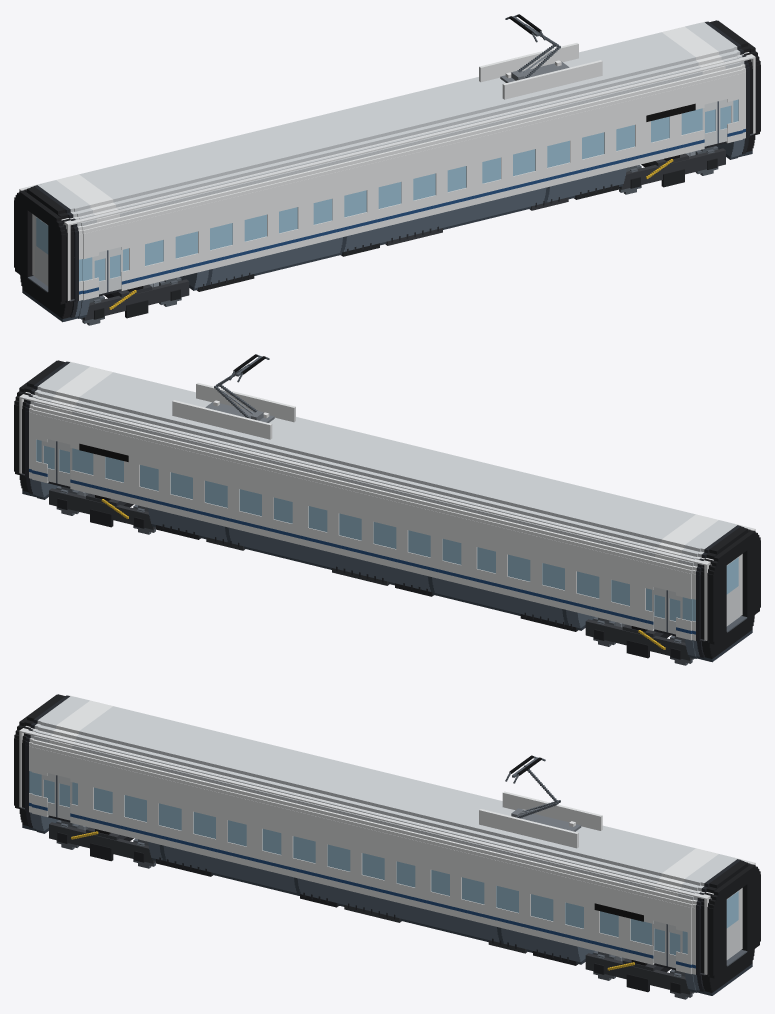
The model's file is ktx_sancheon_car.obj.
3 views of the same model, one above another, from view 1: azimuth 30°, elevation 25°; view 2: azimuth 150°, elevation 25°; view 3: azimuth 330°, elevation 25° (orthographic).
Parts seen in each view (by area): view 1: SHELL, SHELL_pantograph, SHELL_ceiling, SHELL_diaphragm, BOGEY_REAR, BOGEY_FRONT, FRAME, CONNECTING_DOOR_1_CG_CR_TOGGLE_TL_0.98_Z, SHELL_end, EXTERNAL_DOOR_10_CG_DR2_TOGGLE_TL_-0.44_X, EXTERNAL_DOOR_5_CG_DR1_TOGGLE_TL_0.44_X, EXTERNAL_DOOR_4_CG_DR1_TOGGLE_TL_-0.44_X; view 2: SHELL, SHELL_pantograph, SHELL_ceiling, SHELL_diaphragm, BOGEY_REAR, BOGEY_FRONT, FRAME, CONNECTING_DOOR_1_CG_CR_TOGGLE_TL_0.98_Z, SHELL_end, EXTERNAL_DOOR_13_CG_DL2_TOGGLE_TL_-0.44_X, EXTERNAL_DOOR_8_CG_DL1_TOGGLE_TL_0.44_X, EXTERNAL_DOOR_7_CG_DL1_TOGGLE_TL_-0.44_X; view 3: SHELL, SHELL_pantograph, SHELL_ceiling, SHELL_diaphragm, BOGEY_FRONT, BOGEY_REAR, FRAME, CONNECTING_DOOR_2_CG_CF_TOGGLE_TL_0.98_Z, SHELL_end, EXTERNAL_DOOR_10_CG_DR2_TOGGLE_TL_-0.44_X, EXTERNAL_DOOR_5_CG_DR1_TOGGLE_TL_0.44_X, EXTERNAL_DOOR_4_CG_DR1_TOGGLE_TL_-0.44_X.
Part boxes in pixels (bbox=[...]): SHELL: bbox=[20, 20, 756, 322]; SHELL_pantograph: bbox=[479, 14, 602, 99]; SHELL_ceiling: bbox=[22, 21, 753, 225]; SHELL_diaphragm: bbox=[14, 20, 760, 304]; BOGEY_REAR: bbox=[82, 279, 189, 320]; BOGEY_FRONT: bbox=[619, 148, 725, 189]; FRAME: bbox=[99, 141, 726, 296]; CONNECTING_DOOR_1_CG_CR_TOGGLE_TL_0.98_Z: bbox=[34, 216, 48, 286]; SHELL_end: bbox=[19, 21, 755, 300]; EXTERNAL_DOOR_10_CG_DR2_TOGGLE_TL_-0.44_X: bbox=[702, 101, 718, 146]; EXTERNAL_DOOR_5_CG_DR1_TOGGLE_TL_0.44_X: bbox=[108, 247, 122, 291]; EXTERNAL_DOOR_4_CG_DR1_TOGGLE_TL_-0.44_X: bbox=[92, 250, 108, 294]; SHELL: bbox=[18, 360, 754, 662]; SHELL_pantograph: bbox=[172, 354, 295, 439]; SHELL_ceiling: bbox=[21, 361, 752, 564]; SHELL_diaphragm: bbox=[14, 360, 760, 644]; BOGEY_REAR: bbox=[585, 619, 692, 660]; BOGEY_FRONT: bbox=[49, 488, 155, 529]; FRAME: bbox=[48, 481, 675, 636]; CONNECTING_DOOR_1_CG_CR_TOGGLE_TL_0.98_Z: bbox=[726, 556, 740, 626]; SHELL_end: bbox=[19, 361, 755, 640]; EXTERNAL_DOOR_13_CG_DL2_TOGGLE_TL_-0.44_X: bbox=[56, 441, 72, 486]; EXTERNAL_DOOR_8_CG_DL1_TOGGLE_TL_0.44_X: bbox=[652, 587, 666, 631]; EXTERNAL_DOOR_7_CG_DL1_TOGGLE_TL_-0.44_X: bbox=[666, 590, 682, 634]; SHELL: bbox=[18, 694, 754, 995]; SHELL_pantograph: bbox=[479, 755, 602, 848]; SHELL_ceiling: bbox=[21, 695, 752, 898]; SHELL_diaphragm: bbox=[14, 694, 760, 978]; BOGEY_FRONT: bbox=[585, 953, 692, 994]; BOGEY_REAR: bbox=[49, 822, 155, 863]; FRAME: bbox=[48, 815, 675, 970]; CONNECTING_DOOR_2_CG_CF_TOGGLE_TL_0.98_Z: bbox=[726, 889, 740, 959]; SHELL_end: bbox=[19, 695, 755, 974]; EXTERNAL_DOOR_10_CG_DR2_TOGGLE_TL_-0.44_X: bbox=[652, 921, 667, 966]; EXTERNAL_DOOR_5_CG_DR1_TOGGLE_TL_0.44_X: bbox=[57, 775, 72, 820]; EXTERNAL_DOOR_4_CG_DR1_TOGGLE_TL_-0.44_X: bbox=[41, 773, 57, 817].
Size of the model in its own units: 22.82 by 5.68 by 2.92.
Materials: 1 (1 with a texture image).
